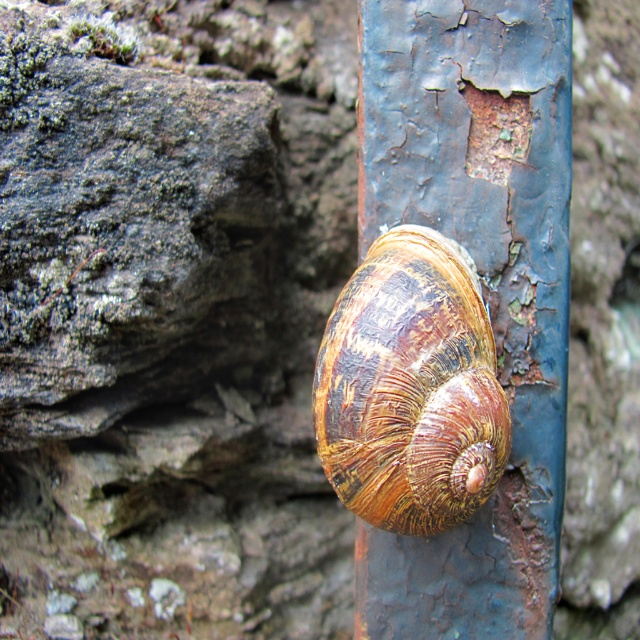Snail: (310, 217, 512, 537)
